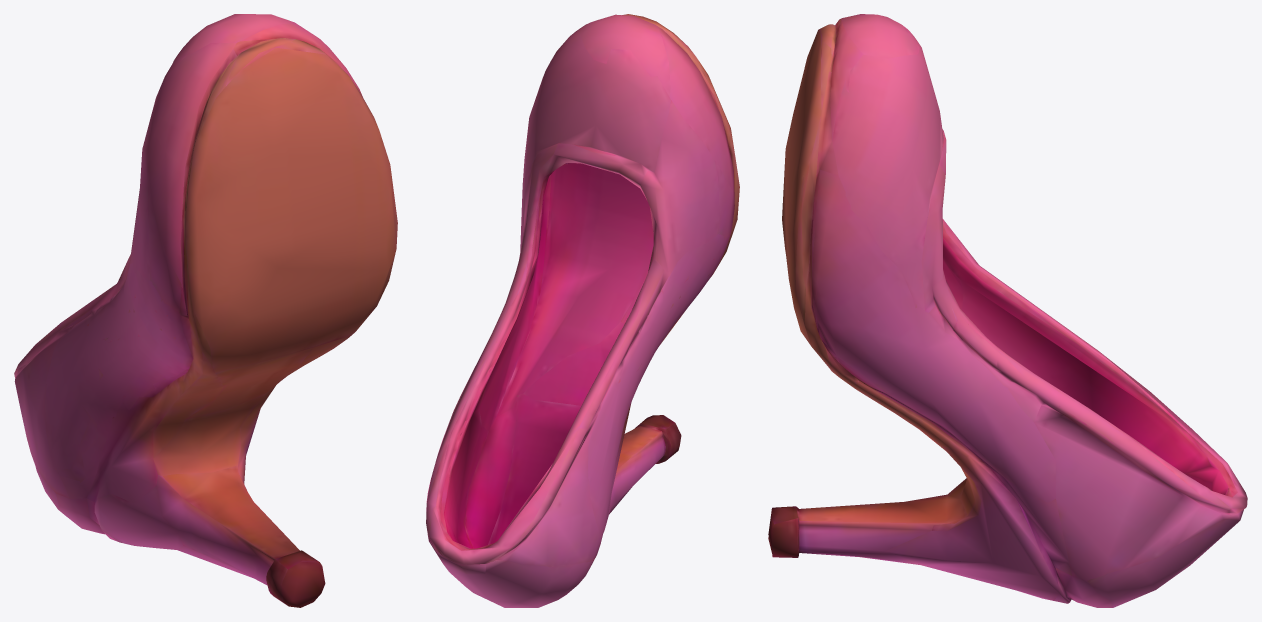
3 views of the same model, side by side, from view 1: azimuth 30°, elevation 25°; view 2: azimuth 150°, elevation 25°; view 3: azimuth 270°, elevation 25° (orthographic). The views are drawn at different scales.
Visible parts, largest first — view 1: material; view 2: material; view 3: material.
Boxes of the visible parts, x1,y1,x2,y2 form: material: (14, 14, 397, 607); material: (426, 14, 739, 607); material: (768, 14, 1247, 607).
Size of the model in its own units: 0.3935 by 1 by 0.7543.
Materials: 1 (1 with a texture image).
